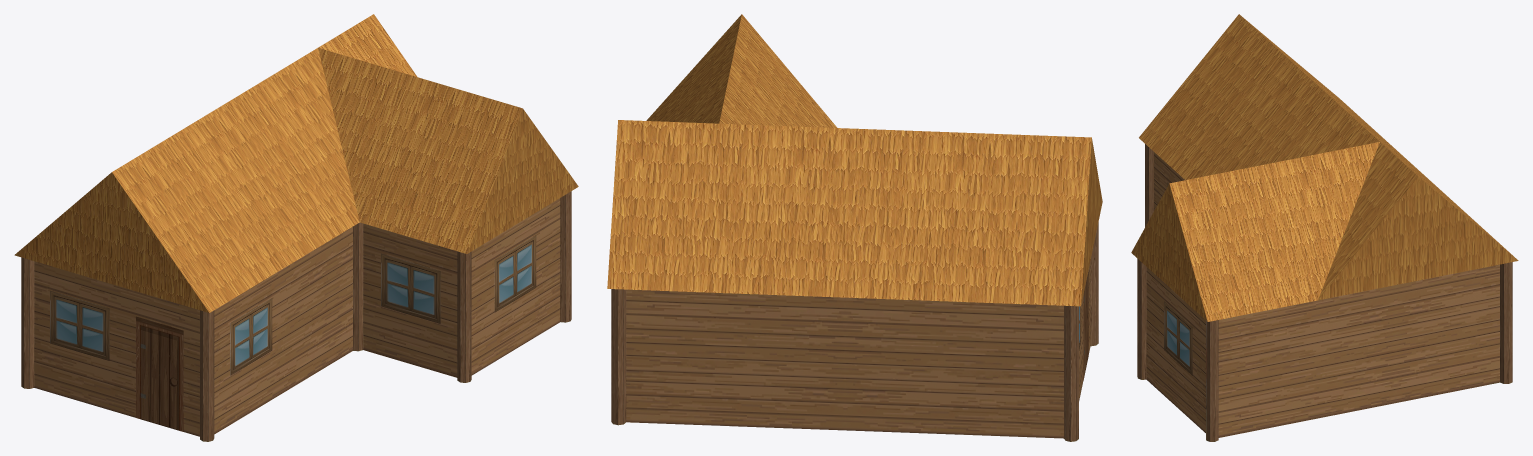
The picture shows the model from 3 angles, left to right: view 1: azimuth 30°, elevation 25°; view 2: azimuth 150°, elevation 25°; view 3: azimuth 270°, elevation 25°; orthographic projection. The views are drawn at different scales.
Parts seen in each view (by area): view 1: defaultMaterial.027; view 2: defaultMaterial.027; view 3: defaultMaterial.027.
Boxes of the visible parts, x1=… form: defaultMaterial.027: x1=14, y1=14, x2=578, y2=441; defaultMaterial.027: x1=607, y1=14, x2=1102, y2=441; defaultMaterial.027: x1=1131, y1=14, x2=1518, y2=441.
Bounding box in the file's own units: 748 × 353 × 548.
Materials: 1 (1 with a texture image).
